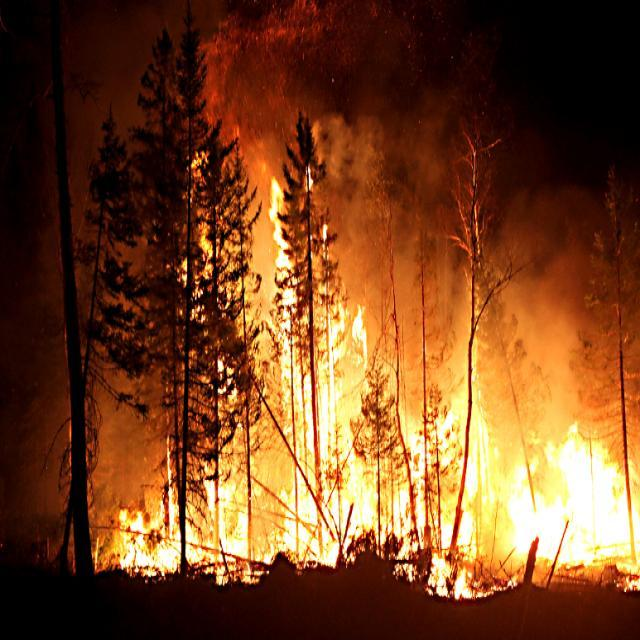Fire: (268, 164, 346, 567), (371, 385, 492, 598), (510, 418, 640, 562), (115, 482, 181, 562), (202, 472, 250, 572), (345, 306, 368, 376), (216, 360, 237, 404), (178, 264, 192, 288)
